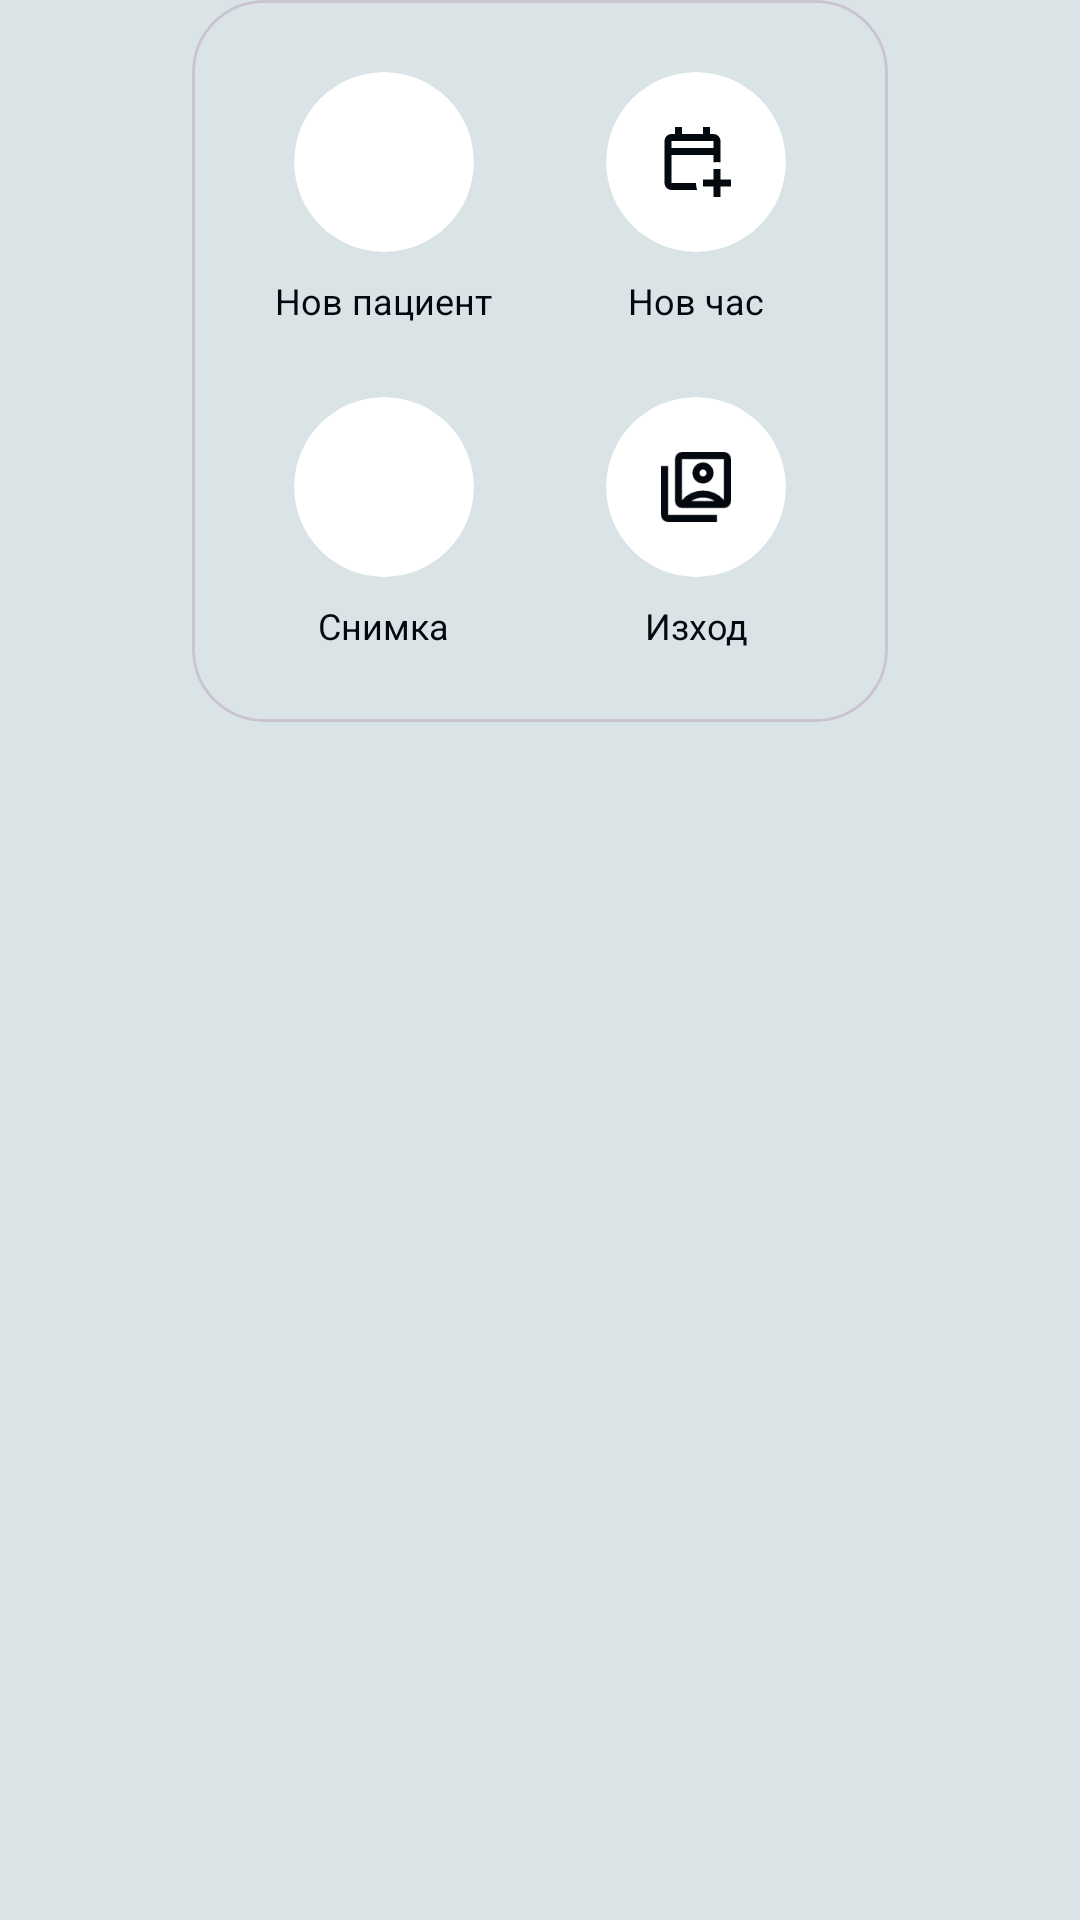

Icons on this 1080x1920 Android screen, each with its box as Rect(x1, y1, x2, y2):
calendar add: Rect(664, 127, 731, 197)
switch account: Rect(661, 452, 731, 522)
